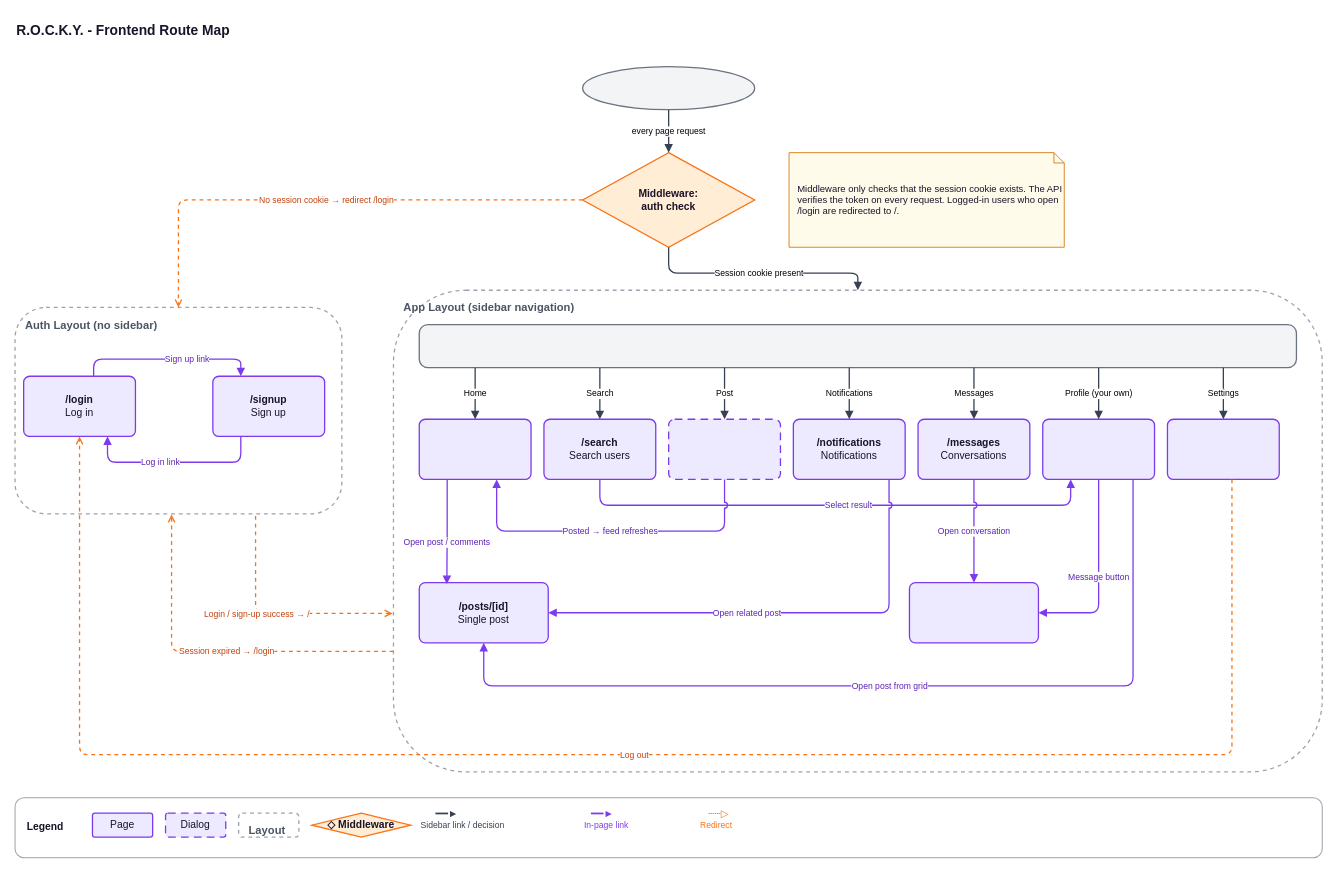
Some shapes in this 1338 by 873 pixel diagram are drawn without their labels. Each missing label, with the centre of its shape:
"/ Home feed" belongs at (x=474, y=449).
"/messages/[id] Conversation thread" belongs at (x=973, y=612).
"/settings Settings" belongs at (x=1223, y=449).
"/u/[username] Profile" belongs at (x=1098, y=449).
"Browser request" belongs at (x=668, y=88).
"Create Post (dialog)" belongs at (x=724, y=449).
"Sidebar navigation (visible on every page)" belongs at (x=857, y=346).
